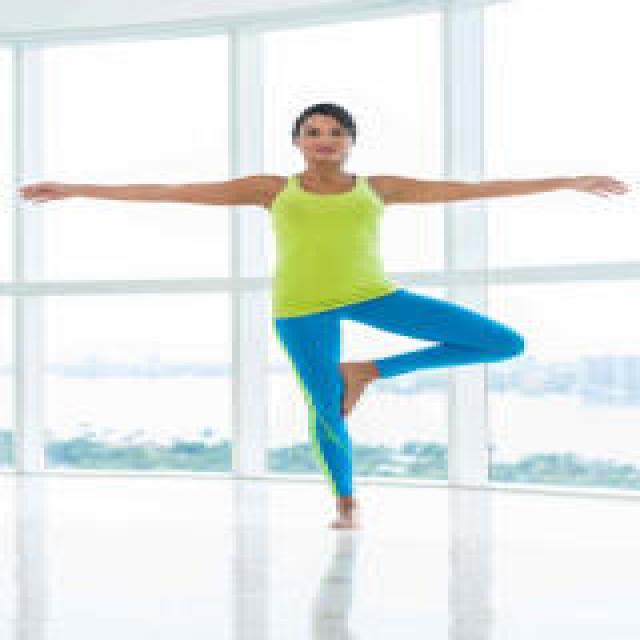yoga-pose tree: (46, 105, 604, 538)
